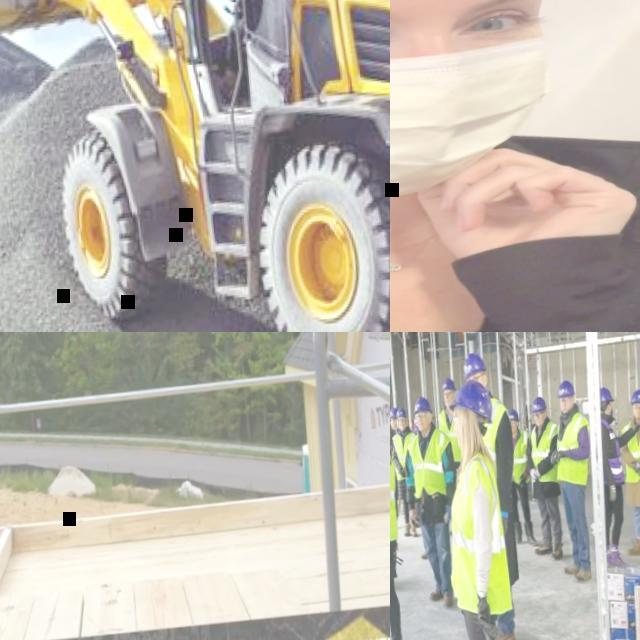Helmet: (451, 384, 492, 423), (458, 348, 492, 379), (553, 378, 577, 401), (596, 387, 618, 411), (407, 400, 432, 419), (533, 394, 548, 417), (436, 377, 458, 392), (390, 402, 405, 422), (507, 404, 520, 424), (628, 387, 640, 406)
Robbery: (393, 0, 637, 324), (443, 393, 522, 640), (410, 396, 459, 622), (550, 373, 595, 600), (519, 376, 567, 578), (594, 376, 628, 580), (496, 384, 529, 563), (615, 372, 640, 575), (391, 396, 407, 604), (433, 367, 463, 432), (462, 350, 498, 397)
